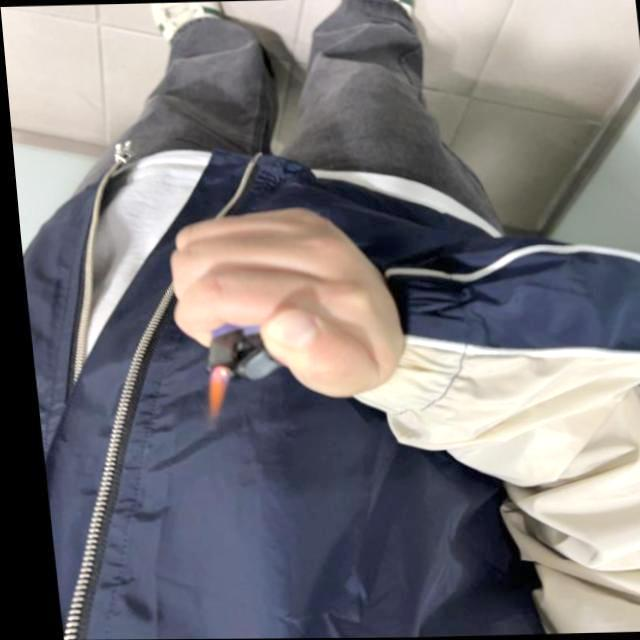fire: (192, 363, 224, 425)
